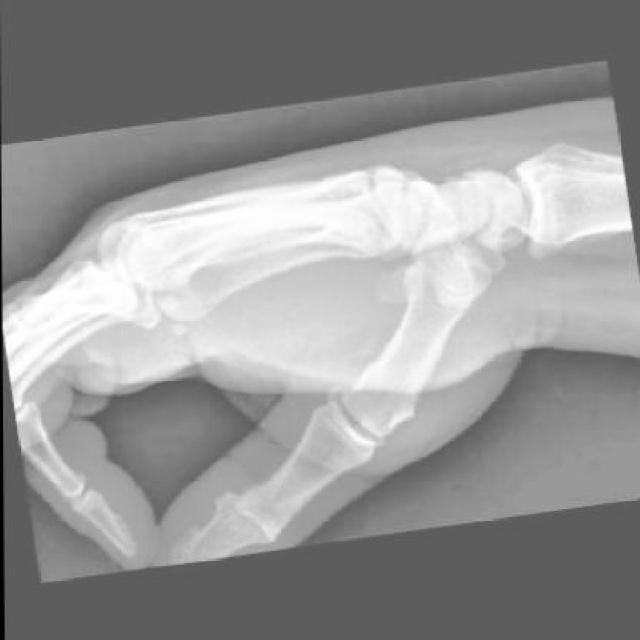Fracture: (349, 154, 427, 247)
